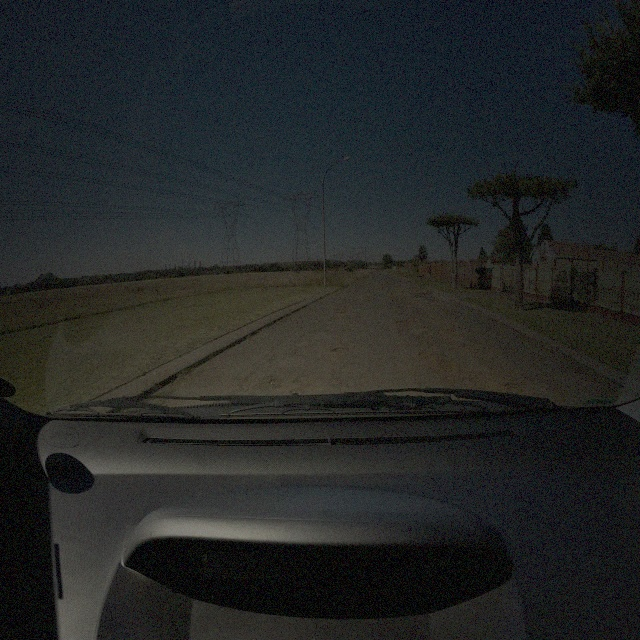pothole: (418, 347, 461, 374), (497, 381, 535, 398), (414, 330, 434, 342), (462, 343, 488, 352), (333, 346, 350, 354), (441, 333, 456, 342), (269, 376, 276, 386), (334, 310, 345, 316)
